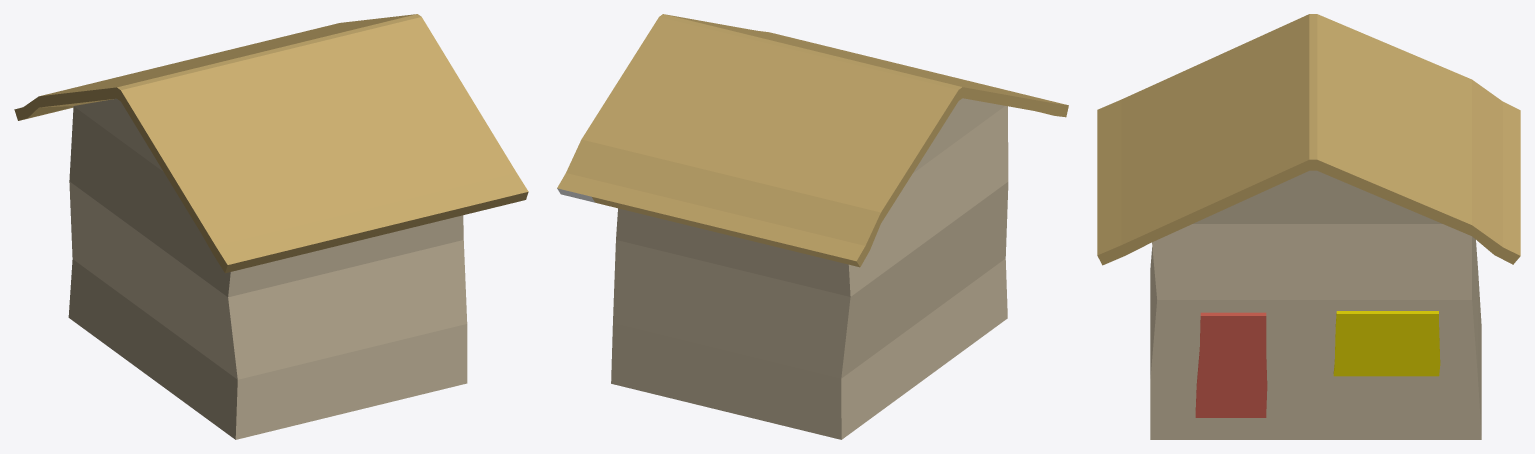
File: house_1.fbx
3 views of the same model, side by side, from view 1: azimuth 30°, elevation 25°; view 2: azimuth 150°, elevation 25°; view 3: azimuth 270°, elevation 25° (orthographic).
Visible parts, largest first — view 1: 1_House-1_100; view 2: 1_House-1_100; view 3: 1_House-1_100.
Part boxes in pixels (<box>): 1_House-1_100: <box>14,14,528,439</box>; 1_House-1_100: <box>557,14,1068,439</box>; 1_House-1_100: <box>1097,14,1520,439</box>.
Bounding box in the file's own units: 19.88 × 18.9 × 24.41.
